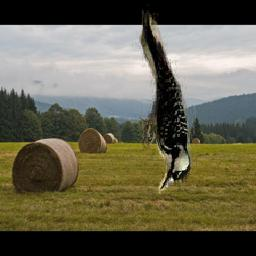Woodpecker: (131, 0, 198, 195)
